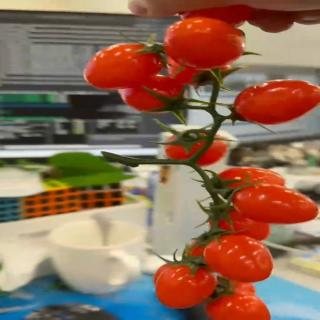tomato: (164, 16, 247, 70), (234, 78, 320, 124), (84, 44, 165, 90), (232, 185, 320, 226), (204, 232, 276, 282), (152, 263, 218, 310), (208, 203, 273, 243), (162, 129, 228, 168), (120, 83, 188, 116), (214, 166, 289, 192), (207, 292, 272, 320)
